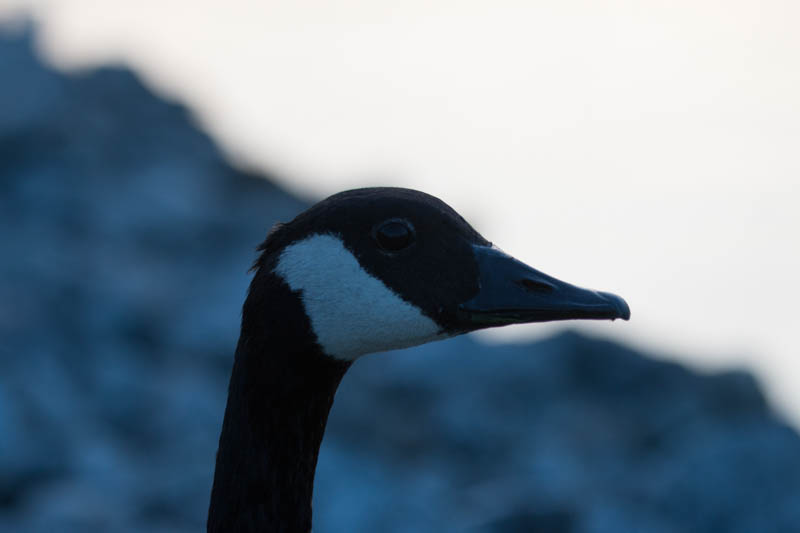goose-head: (235, 186, 633, 359)
